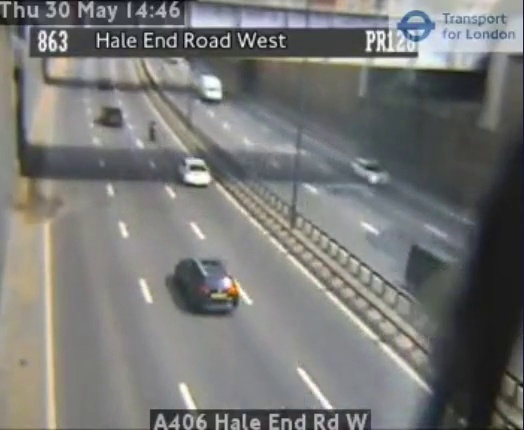car: (176, 258, 237, 312), (179, 158, 210, 184)
